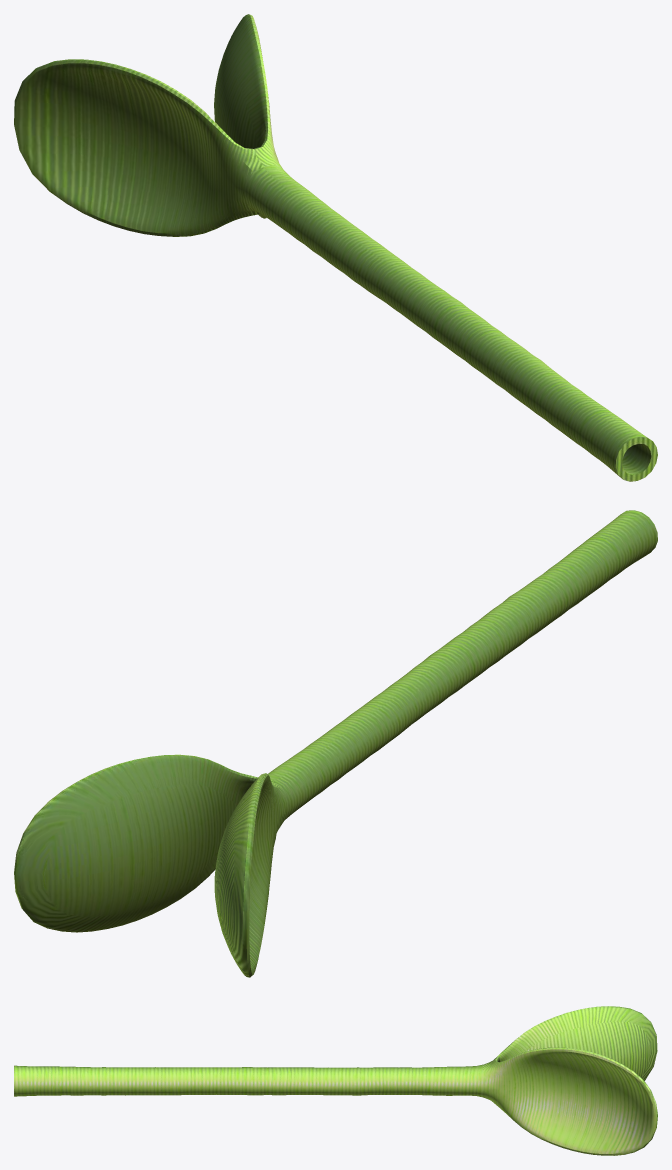
Rendered from 09_Leaf.glb.
The picture shows the model from 3 angles, top to bottom: view 1: azimuth 30°, elevation 25°; view 2: azimuth 150°, elevation 25°; view 3: azimuth 270°, elevation 25°; orthographic projection. The views are drawn at different scales.
Visible parts, largest first — view 1: 09_Leaf; view 2: 09_Leaf; view 3: 09_Leaf.
Part boxes in pixels (box(x1,y1,x2,y2)): 09_Leaf: box(14, 14, 657, 481); 09_Leaf: box(14, 510, 657, 977); 09_Leaf: box(14, 1006, 657, 1155).
Size of the model in its own units: 0.054 by 0.0359 by 0.2031.
1 material, 1 textured.
